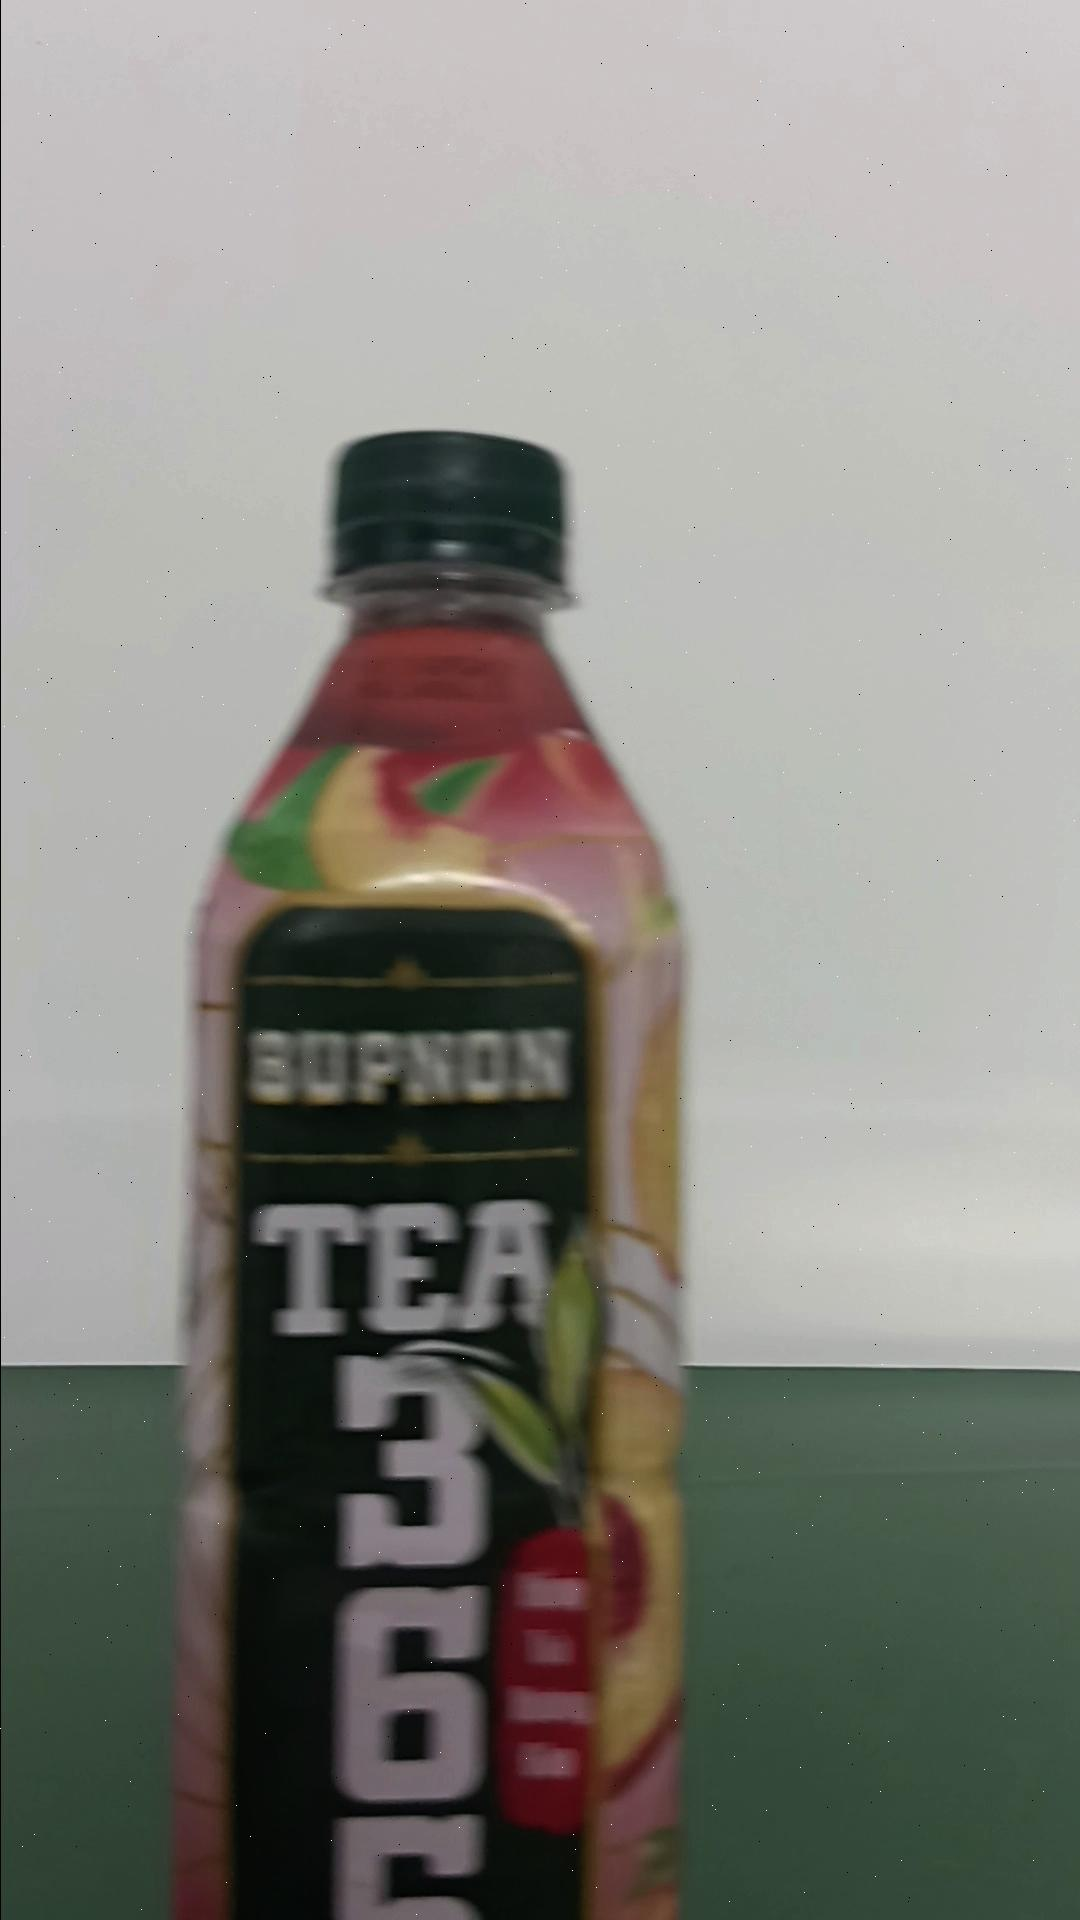khong loi: (166, 427, 691, 1915)
